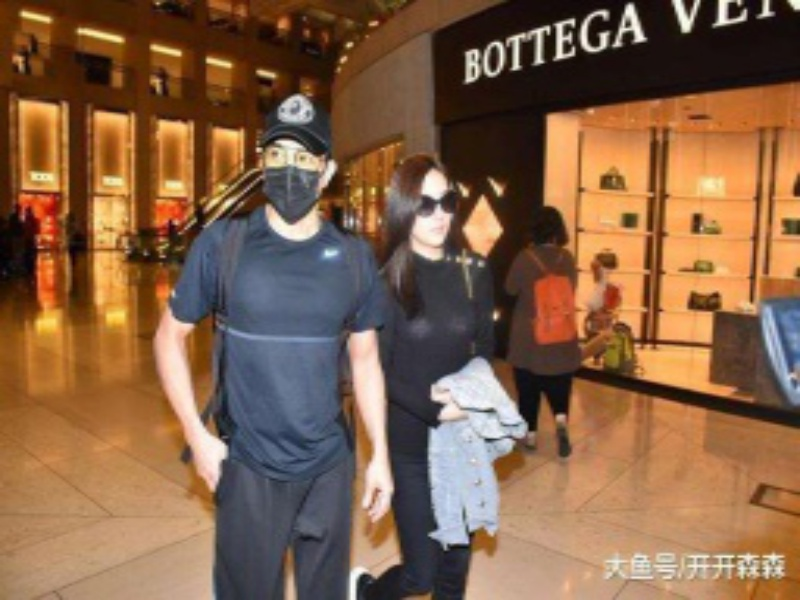ManaoArotava: (250, 94, 345, 244)
TsisyArotava: (384, 145, 476, 260)
